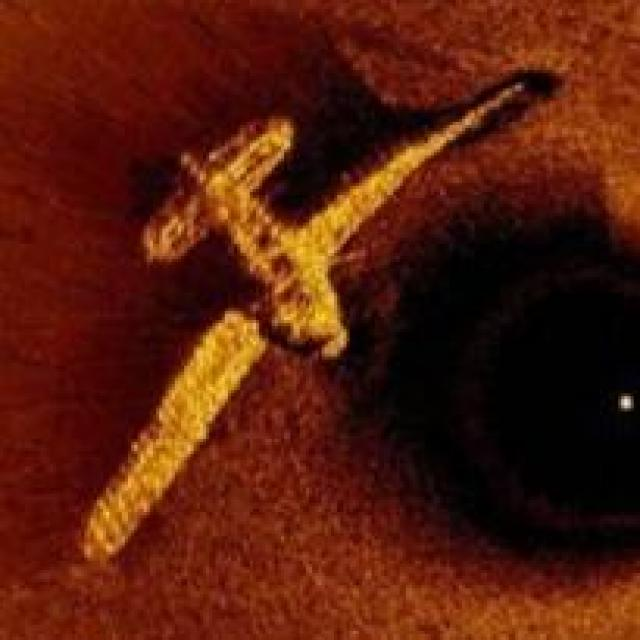plane: (38, 49, 580, 591)
